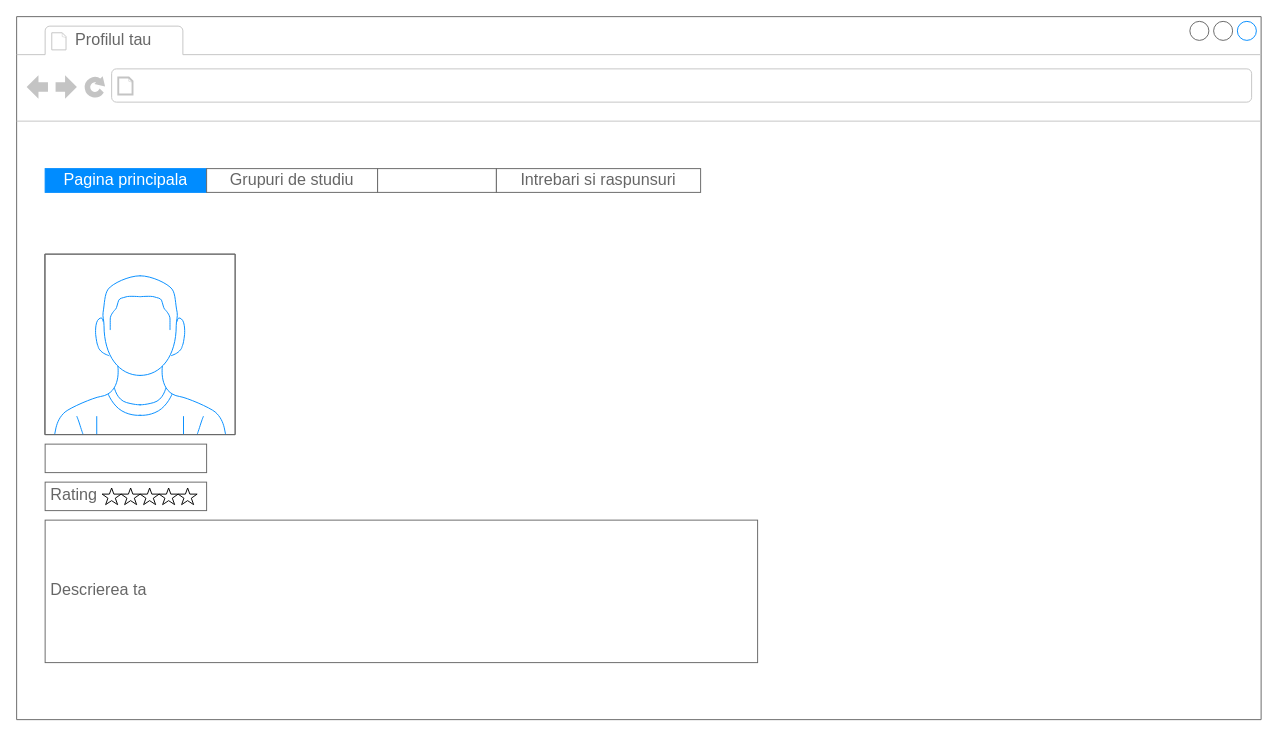
Some shapes in this 1278 by 736 pixel diagram are drawn without their labels. The centre of each missing label's shape, as x and y in pixels:
"https://www.notiteonline.com" belongs at (258,85).
"Notite" belongs at (436,180).
"Nume Prenume" belongs at (125,458).
